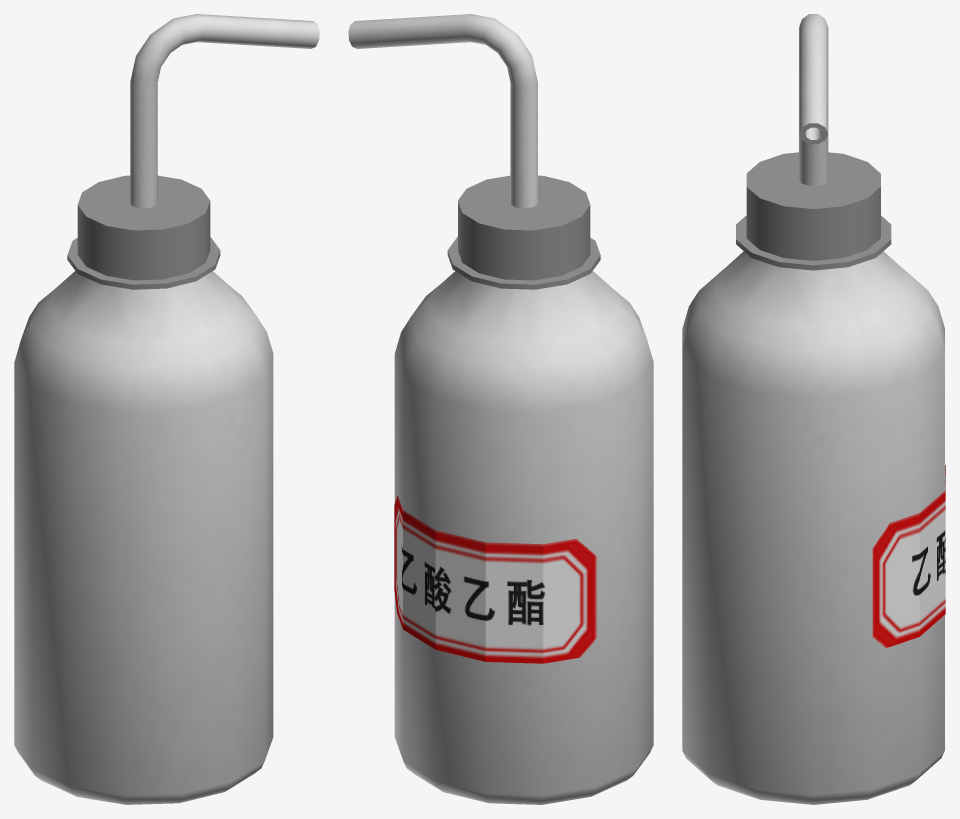
The model's file is SM_乙酸乙酯.FBX.
3 views of the same model, side by side, from view 1: azimuth 30°, elevation 25°; view 2: azimuth 150°, elevation 25°; view 3: azimuth 270°, elevation 25° (orthographic). The views are drawn at different scales.
Visible parts, largest first — view 1: SM_乙酸乙酯; view 2: SM_乙酸乙酯; view 3: SM_乙酸乙酯.
Part boxes in pixels (bbox=[...]): SM_乙酸乙酯: bbox=[14, 14, 319, 804]; SM_乙酸乙酯: bbox=[348, 14, 653, 804]; SM_乙酸乙酯: bbox=[682, 14, 945, 804].
Size of the model in its own units: 0.0866 by 0.213 by 0.067.
